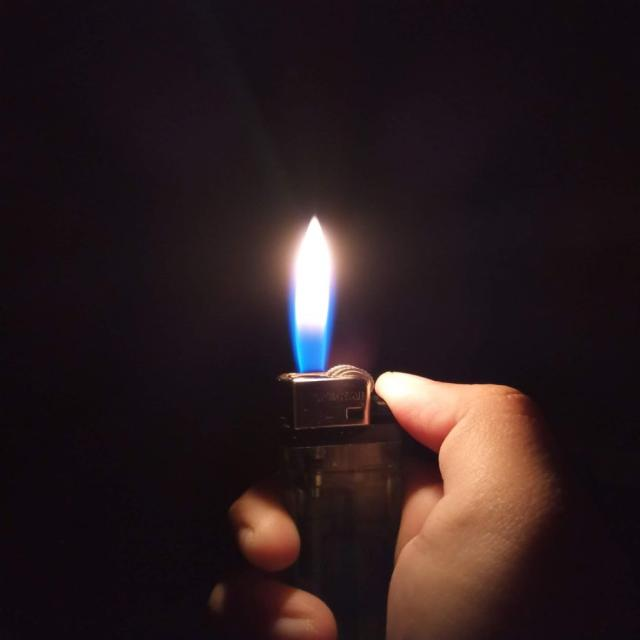fire: (287, 216, 338, 371)
